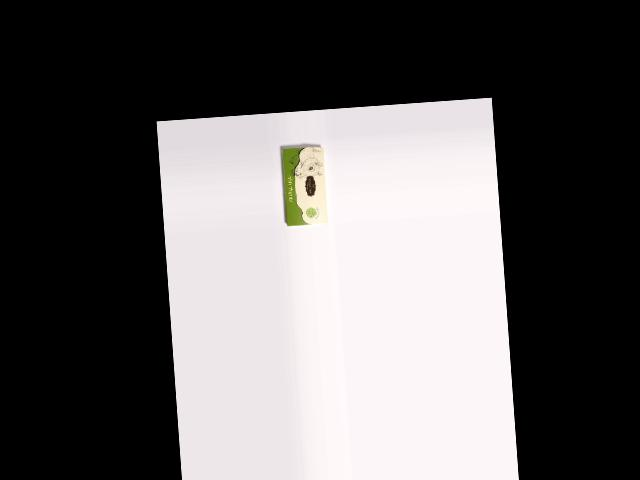chocolate: (280, 144, 329, 227)
